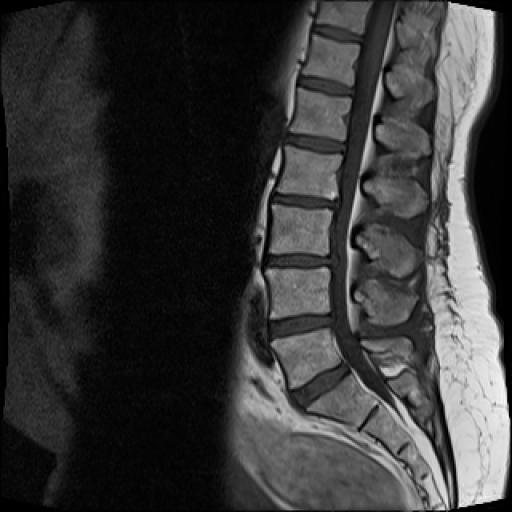L1: (289, 87, 351, 140)
L2: (277, 145, 342, 200)
L3: (270, 206, 330, 254)
L4: (266, 268, 330, 318)
L5: (272, 329, 340, 388)
S1: (308, 375, 377, 428)
